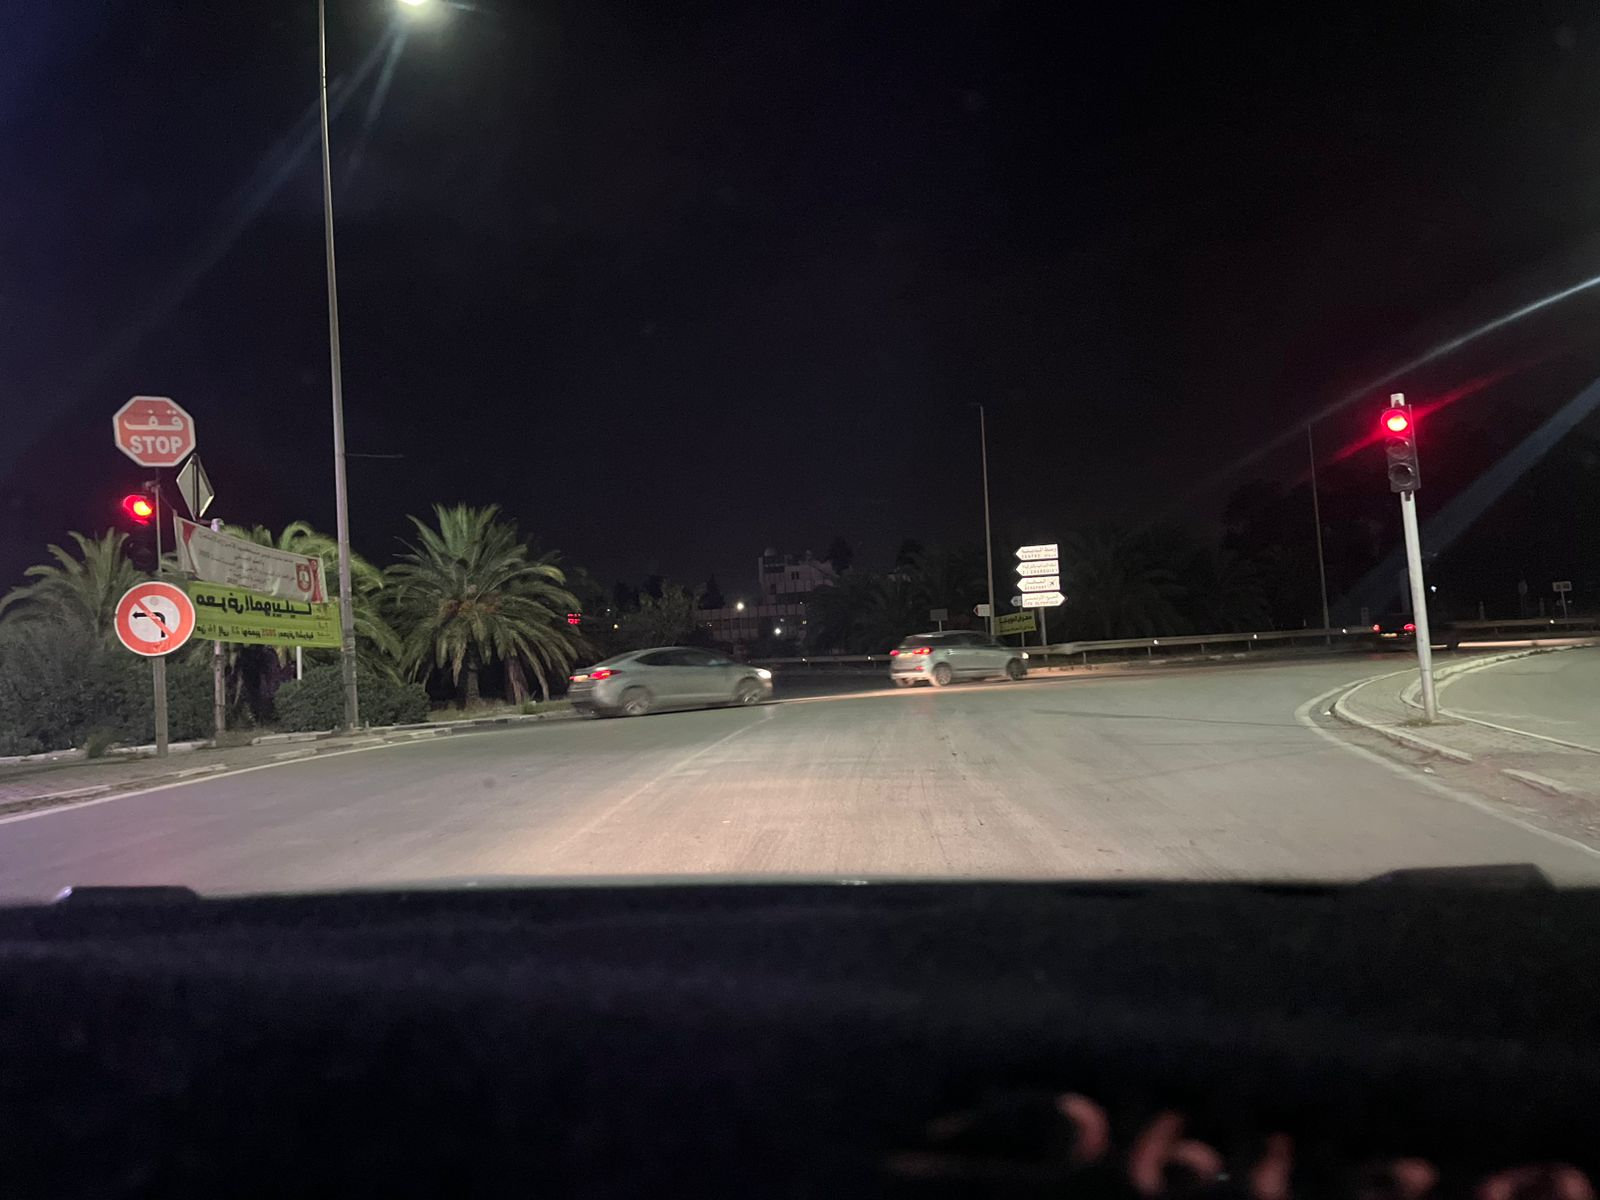RedLight: (1376, 403, 1424, 497), (118, 489, 164, 575)
Stop: (111, 396, 197, 468)
